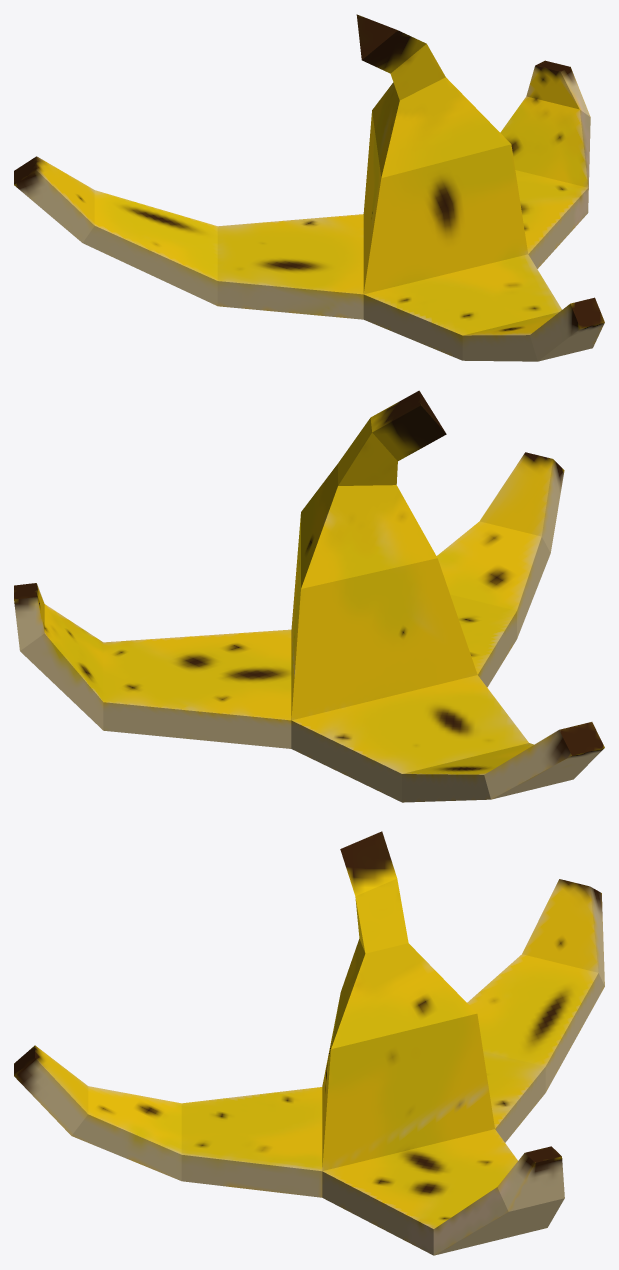
Rendered from banana.fbx.
3 renders of one model, top to bottom at view 1: azimuth 30°, elevation 25°; view 2: azimuth 150°, elevation 25°; view 3: azimuth 270°, elevation 25°, orthographic. The views are drawn at different scales.
Visible parts, largest first — view 1: Cone; view 2: Cone; view 3: Cone.
Boxes of the visible parts, box(x1,y1,x2,y2) form: Cone: box(14, 14, 604, 361); Cone: box(14, 390, 604, 802); Cone: box(14, 831, 604, 1255).
Size of the model in its own units: 575 by 281 by 513.
Materials: 1 (1 with a texture image).
